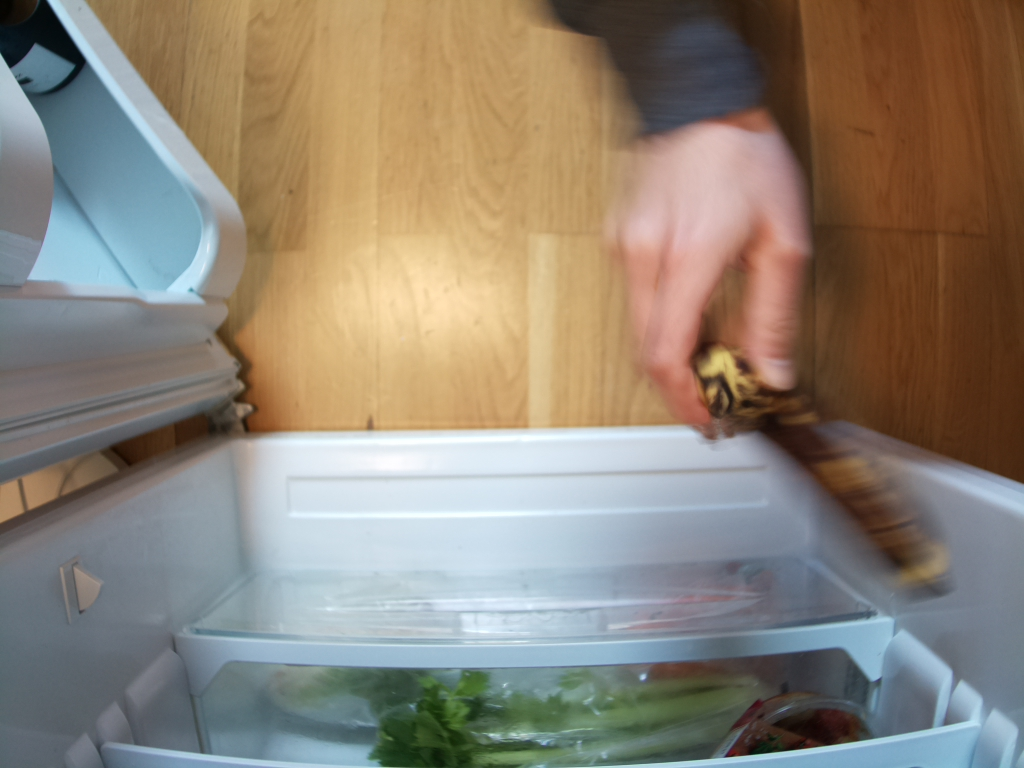banana-overripe: (696, 342, 954, 603)
